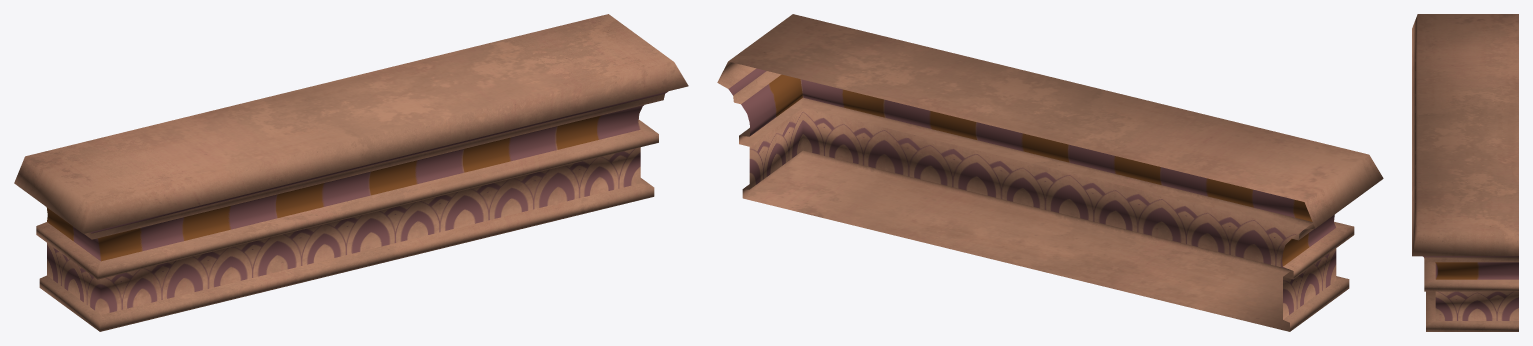
File: temple_up1.fbx
3 renders of one model, left to right at view 1: azimuth 30°, elevation 25°; view 2: azimuth 150°, elevation 25°; view 3: azimuth 270°, elevation 25°, orthographic. The views are drawn at different scales.
Parts seen in each view (by area): view 1: temple1, Object025, Object026, Object029, Object027, Object028; view 2: Object025, temple1, Object028, Object026, Object027, Object029; view 3: Object025, temple1, Object029, Object028, Object027, Object026.
Boxes of the visible parts, <box> form: temple1: <box>14,131,199,331</box>; Object025: <box>504,14,688,218</box>; Object026: <box>410,39,572,241</box>; Object029: <box>130,108,292,309</box>; Object027: <box>317,62,479,264</box>; Object028: <box>224,85,385,286</box>; Object025: <box>717,14,895,219</box>; temple1: <box>1201,129,1383,331</box>; Object028: <box>1016,84,1172,287</box>; Object026: <box>832,39,988,242</box>; Object027: <box>924,62,1080,264</box>; Object029: <box>1109,107,1264,310</box>; Object025: <box>1412,194,1518,331</box>; temple1: <box>1412,14,1518,71</box>; Object029: <box>1412,53,1518,106</box>; Object028: <box>1412,88,1518,141</box>; Object027: <box>1412,123,1518,176</box>; Object026: <box>1412,159,1518,211</box>.
Size of the model in its own units: 40645 by 8056 by 8664.
